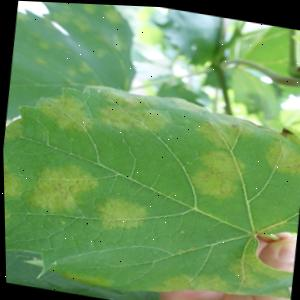Folha: (1, 69, 300, 300)
Fungo: (21, 157, 152, 237), (79, 83, 179, 142), (23, 158, 100, 219), (182, 142, 249, 203), (30, 85, 98, 140), (180, 107, 256, 154), (225, 248, 295, 298), (151, 260, 234, 300), (91, 194, 149, 236), (263, 135, 300, 174), (57, 266, 118, 287), (3, 161, 22, 201), (2, 112, 25, 144), (4, 206, 18, 234), (102, 7, 124, 21), (76, 59, 93, 72), (31, 52, 47, 62), (81, 3, 96, 12)
